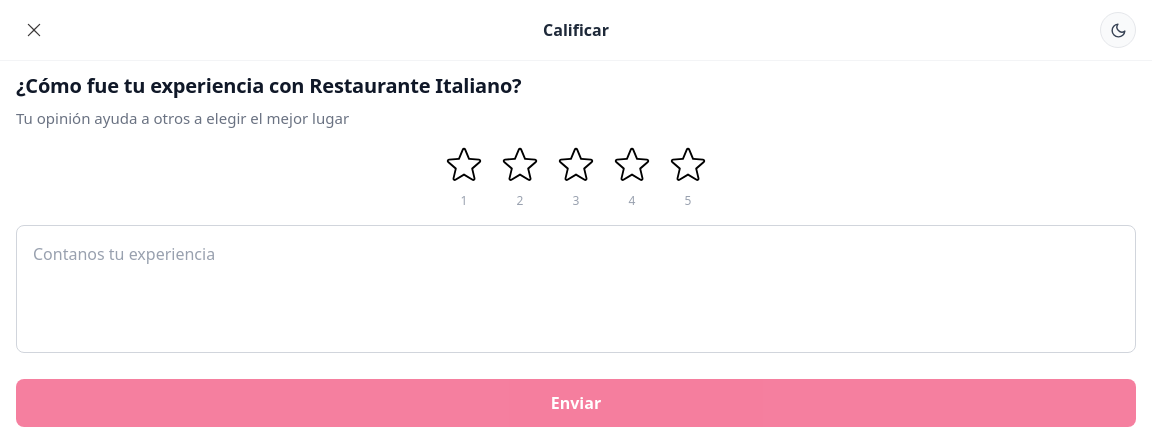
CalificarLocal › muestra error cuando no hay usuario autenticado al enviar
Check: the button "Enviar" is shown, box [16,379,1136,427]
Step 1. Click the 6th button with alt text "Estrella" → (688, 165), box [664,141,712,189]
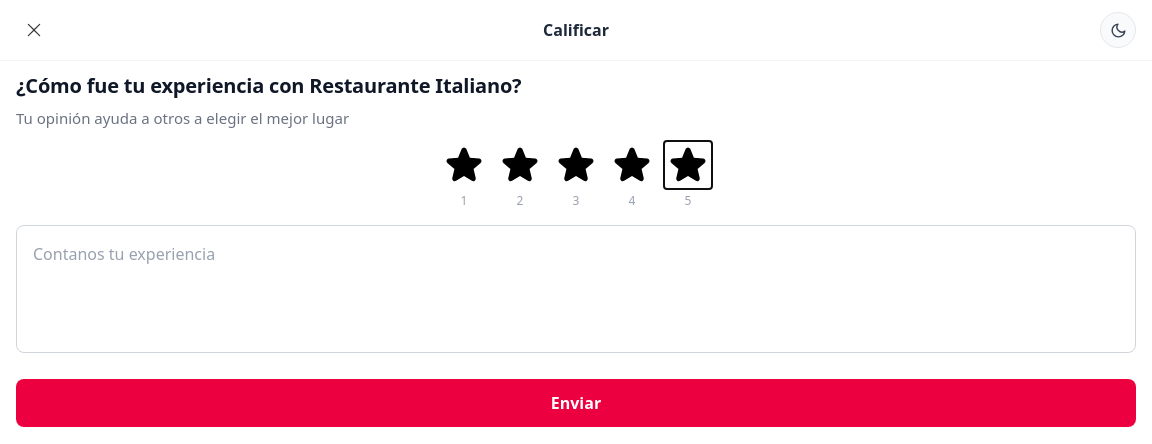
Step 2. Click the button "Enviar" → (576, 403), box [16,379,1136,427]
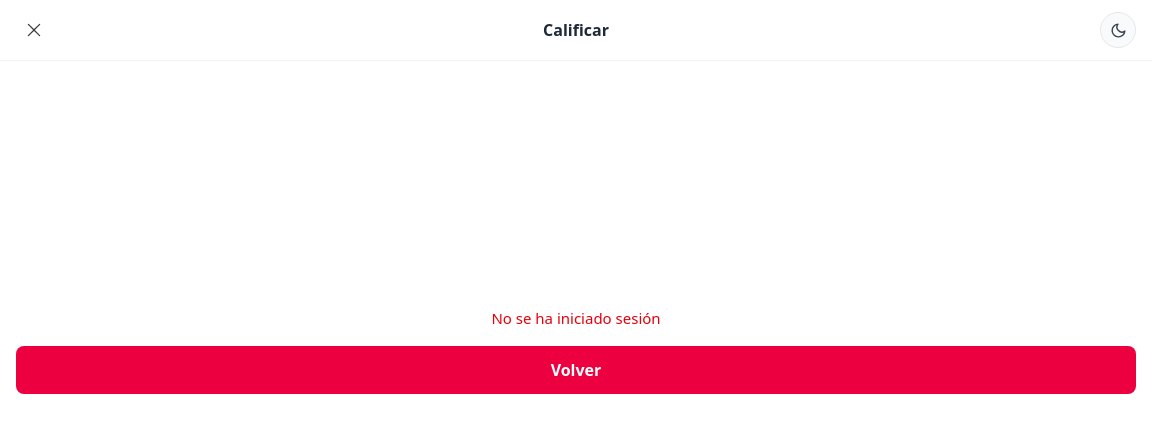
Check: the text "No se ha iniciado sesión" is shown, box [491,307,661,330]
